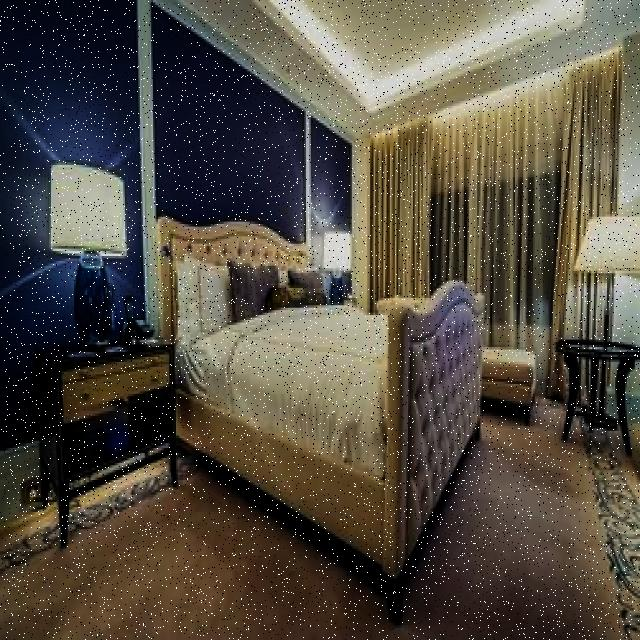bed: (168, 215, 482, 456)
